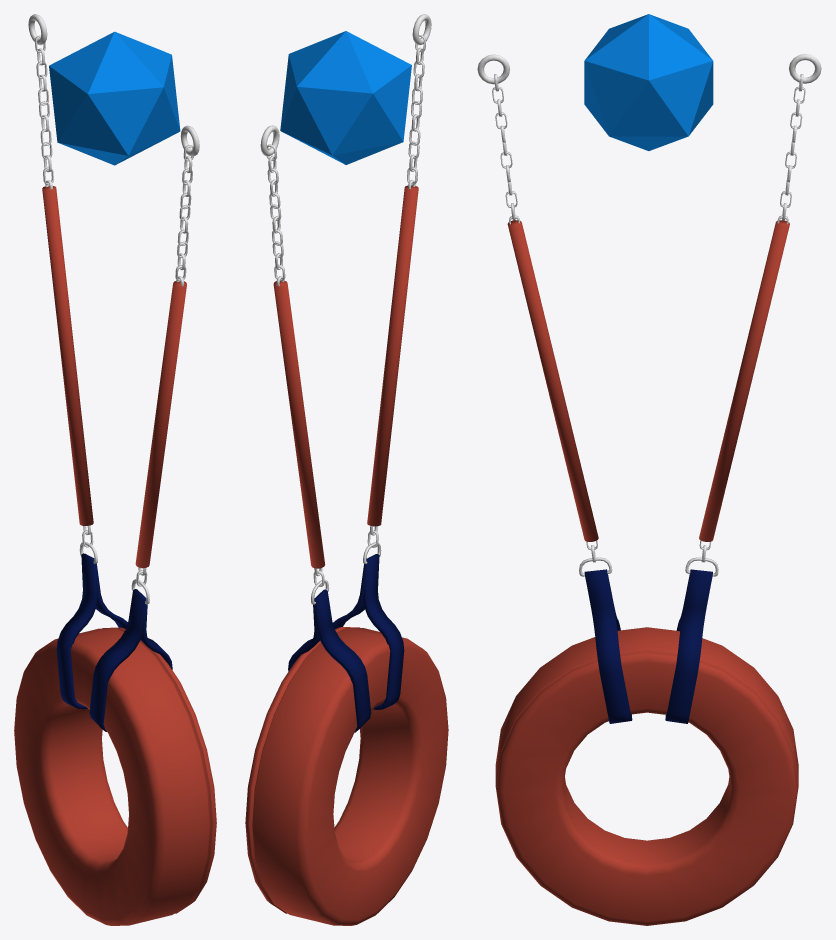
File: Vynil tire swing 8ft.glb
3 renders of one model, left to right at view 1: azimuth 30°, elevation 25°; view 2: azimuth 150°, elevation 25°; view 3: azimuth 270°, elevation 25°, orthographic. The views are drawn at different scales.
Visible parts, largest first — view 1: Circle.005, Joint.039, Torus; view 2: Circle.005, Joint.039, Torus; view 3: Circle.005, Joint.039, Torus.
Part boxes in pixels (box(x1,y1,x2,y2)): Circle.005: box(14, 35, 216, 925); Joint.039: box(49, 31, 180, 165); Torus: box(28, 14, 199, 156); Circle.005: box(245, 35, 448, 925); Joint.039: box(280, 31, 411, 164); Torus: box(260, 14, 431, 156); Circle.005: box(492, 74, 805, 925); Joint.039: box(584, 14, 713, 150); Torus: box(477, 54, 821, 84).
Bounding box in the file's own units: 0.2726 × 2 × 0.6925.
5 materials, 1 textured.
